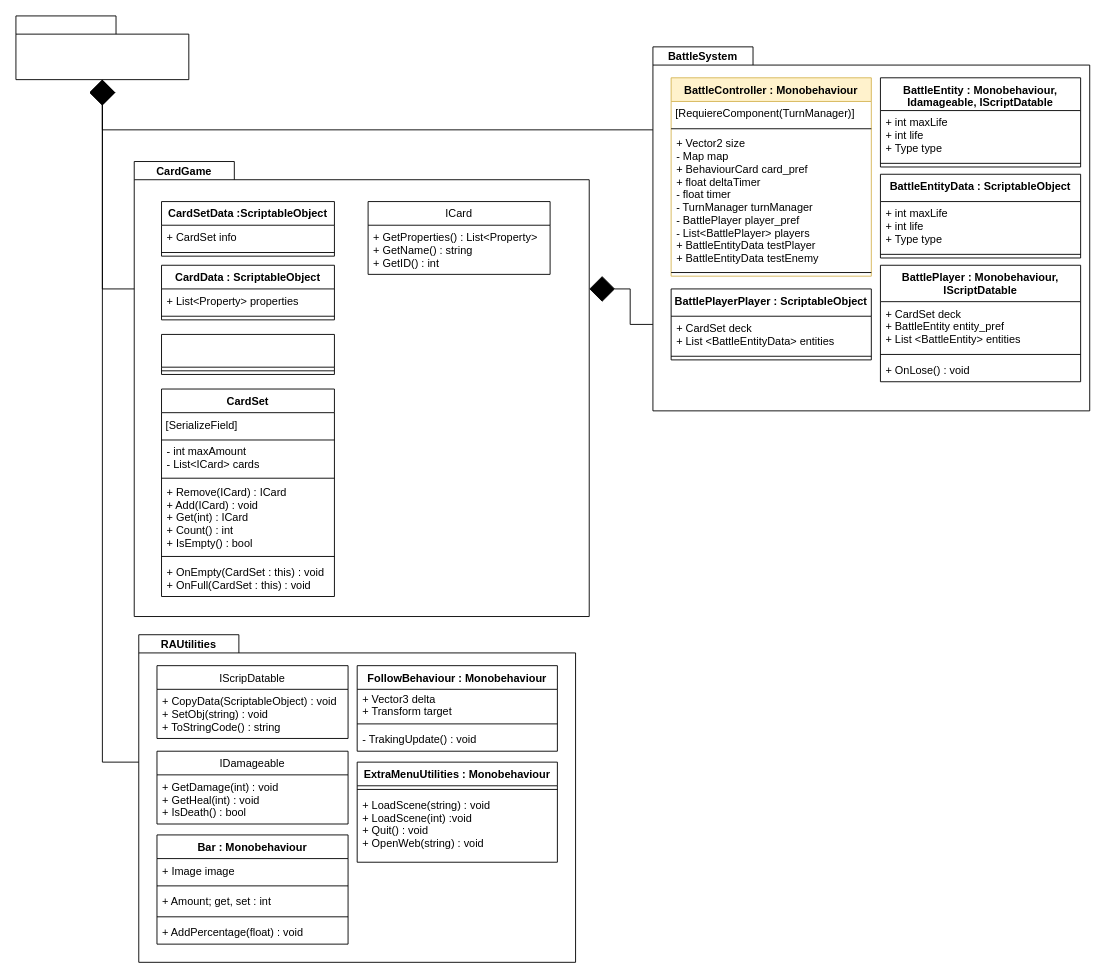
The diagram is 1106 pixels wide and 978 high, and some of its shapes have lost their labels. Each missing label, with the centre of its shape:
"DropZone : Monobehaviour, IDropHandler" goes at point 247,354.
"UnityEngine" goes at point 102,47.
